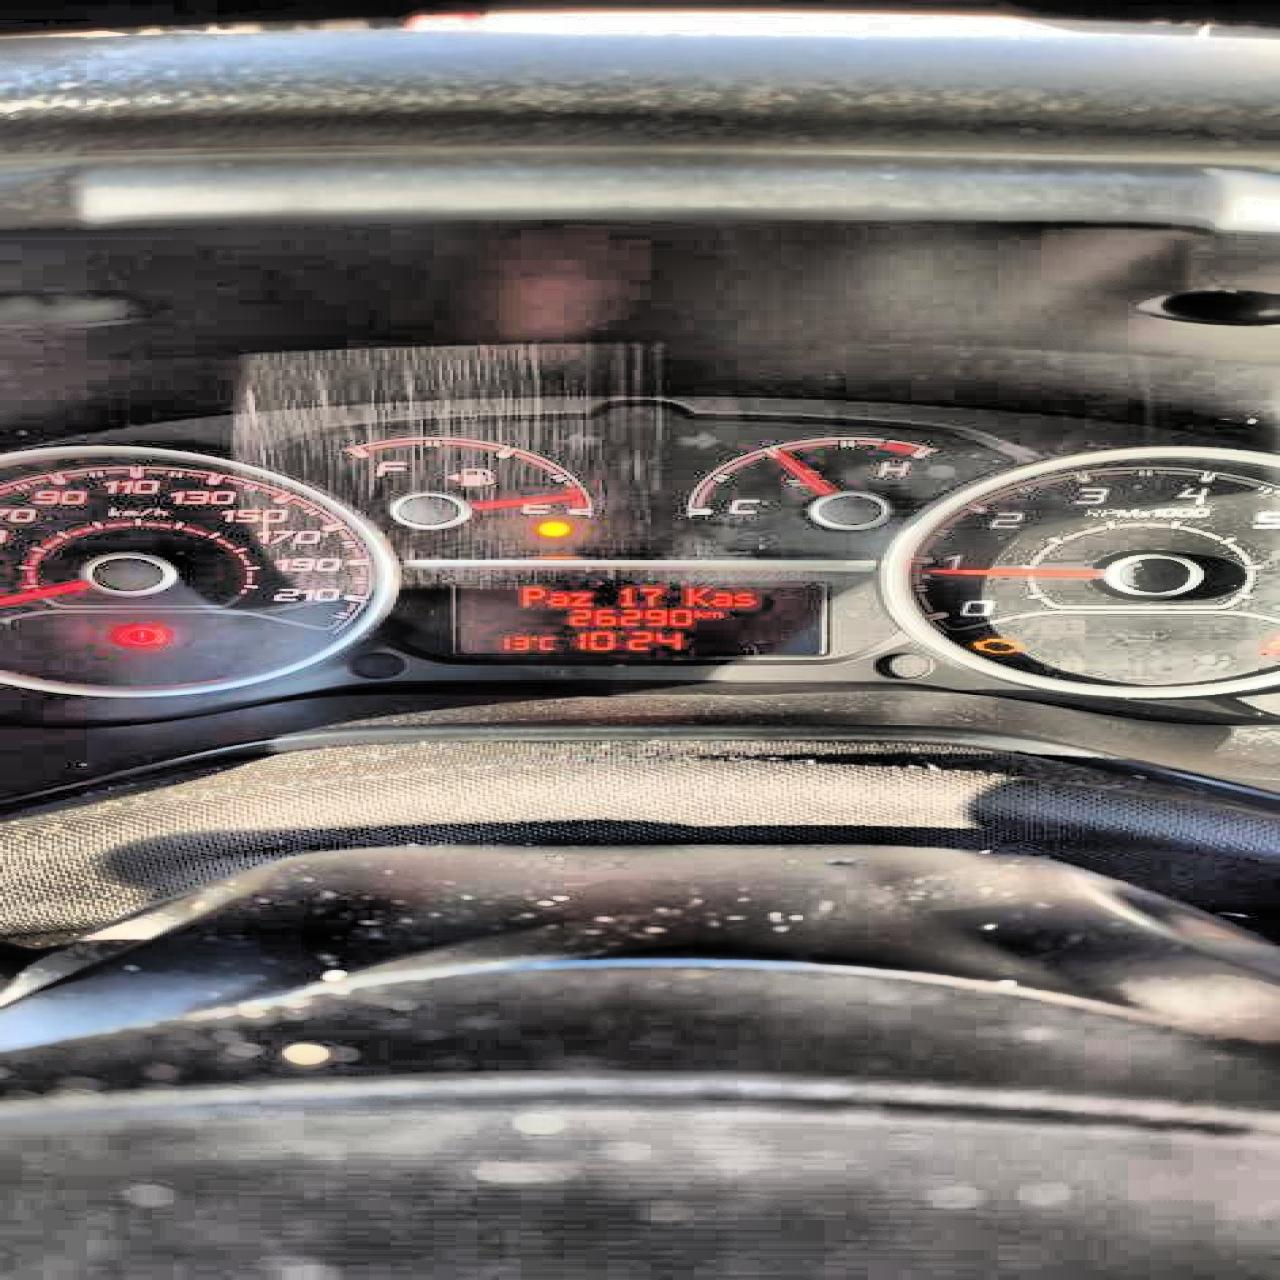0: (586, 631, 613, 651), (667, 610, 692, 625)
1: (618, 587, 632, 605), (576, 631, 586, 651), (499, 636, 508, 648)
2: (624, 631, 651, 651), (618, 610, 640, 625), (567, 610, 588, 625)
3: (510, 635, 529, 649)
4: (654, 631, 681, 651)
6: (591, 610, 613, 625)
7: (638, 586, 662, 606)
9: (642, 610, 667, 625)
X: (683, 587, 708, 606), (520, 587, 543, 606), (543, 592, 567, 606), (567, 592, 591, 606), (708, 591, 729, 605), (729, 593, 754, 605), (537, 636, 553, 651), (692, 608, 706, 618), (704, 612, 721, 618)
odometer: (444, 580, 828, 658)
